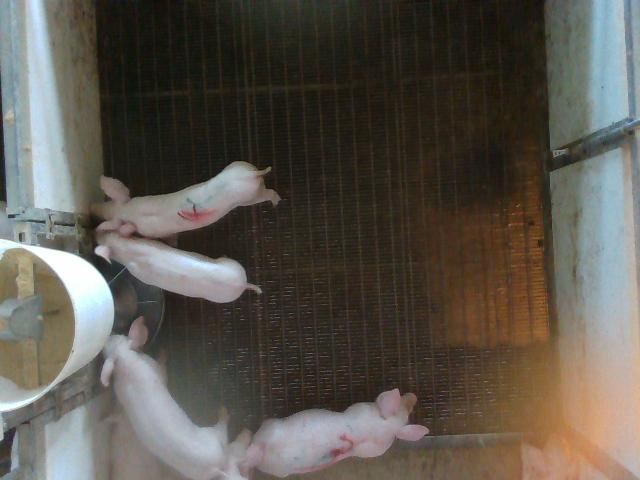pig-3: (246, 389, 429, 477)
pig-4: (91, 161, 281, 238)
